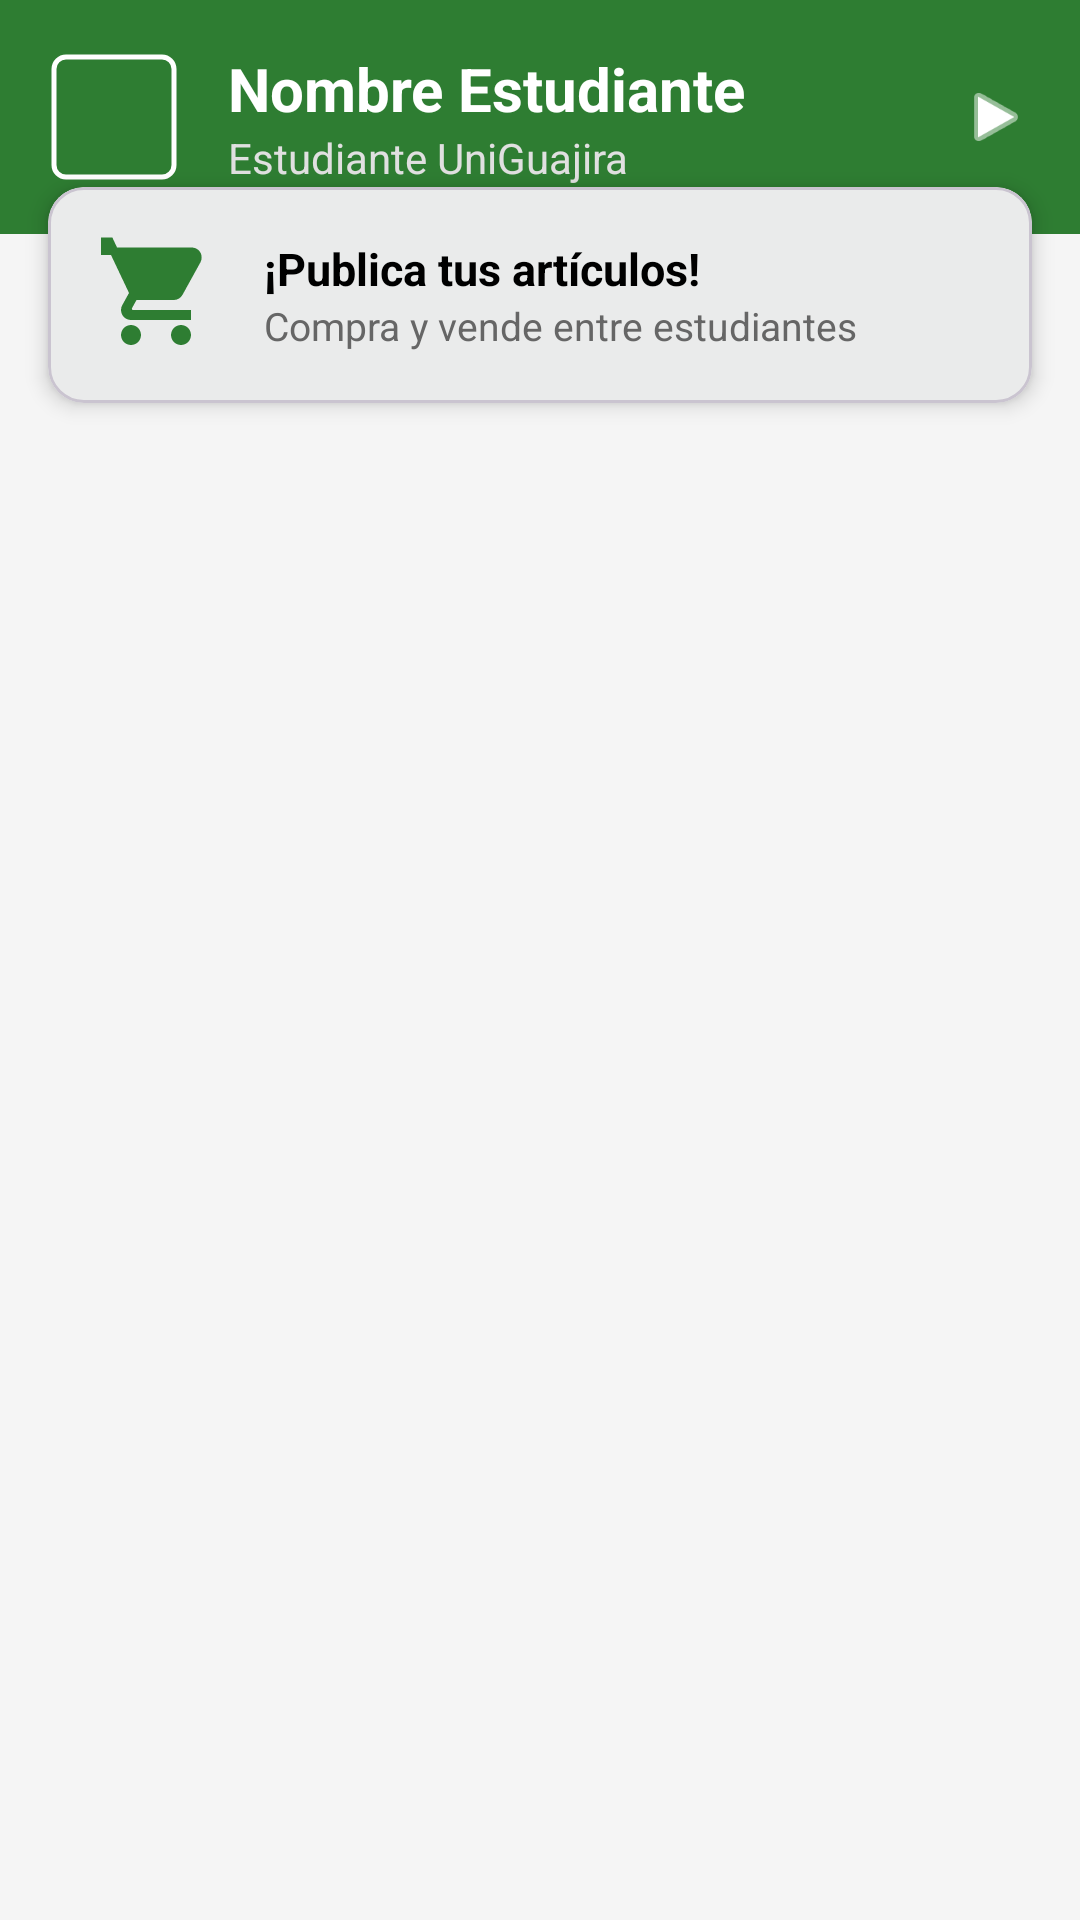

Named icons in this screenshot (1080x1920) and their bounding boxes, [x1, y1, x2, y2]:
cart: [101, 237, 202, 345]
play: [974, 93, 1018, 141]
